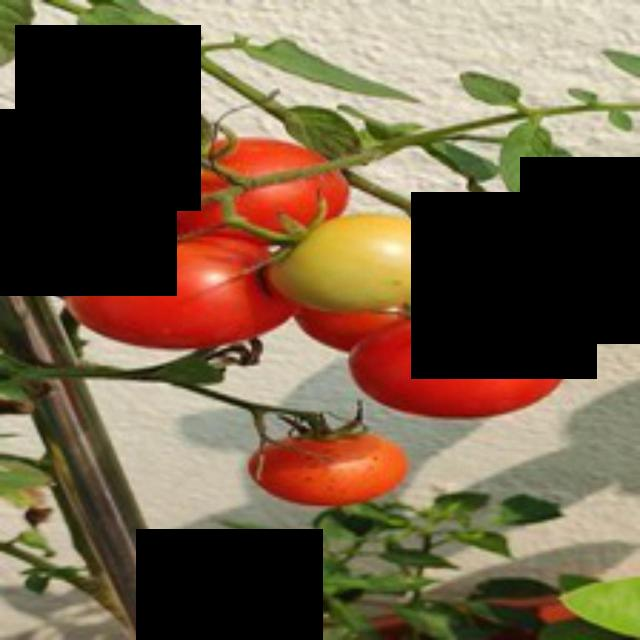tomato: (58, 220, 294, 355), (348, 297, 571, 422), (136, 130, 354, 250), (425, 173, 608, 303), (262, 424, 411, 506)
